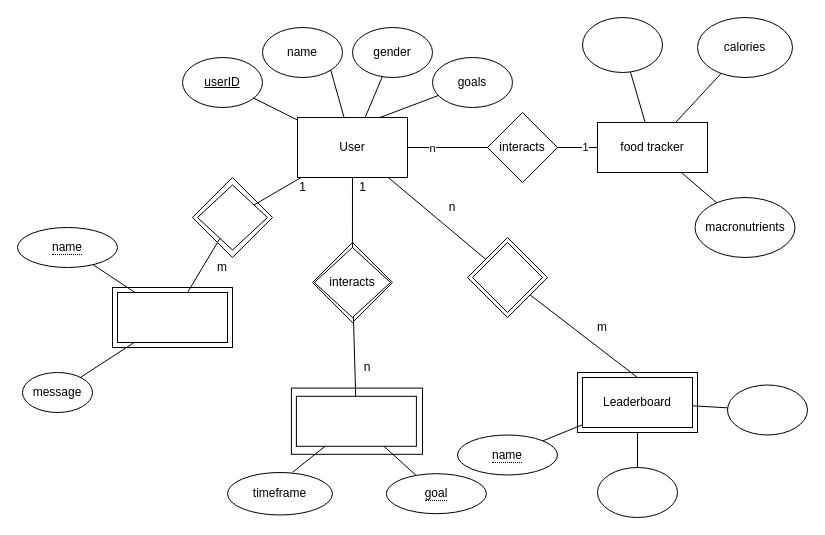
The diagram is 825 pixels wide and 535 high, and some of its shapes have lost their labels. The centre of each missing label's shape, as x and y in pixels:
"foodID" goes at point (622, 44).
"participants" goes at point (767, 409).
"participate" goes at point (507, 277).
"Reminder" goes at point (172, 317).
"scores" goes at point (637, 492).
"set" goes at point (232, 217).
"statistics" goes at point (355, 420).
